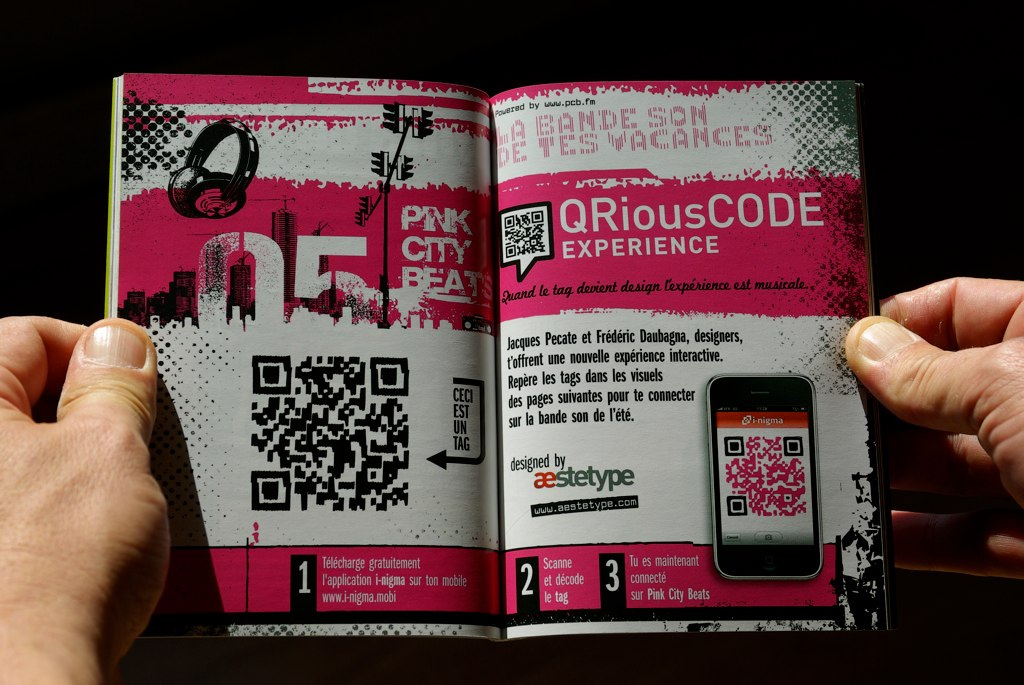QR-CODE: (251, 355, 408, 510), (724, 436, 806, 515), (504, 210, 545, 258)
